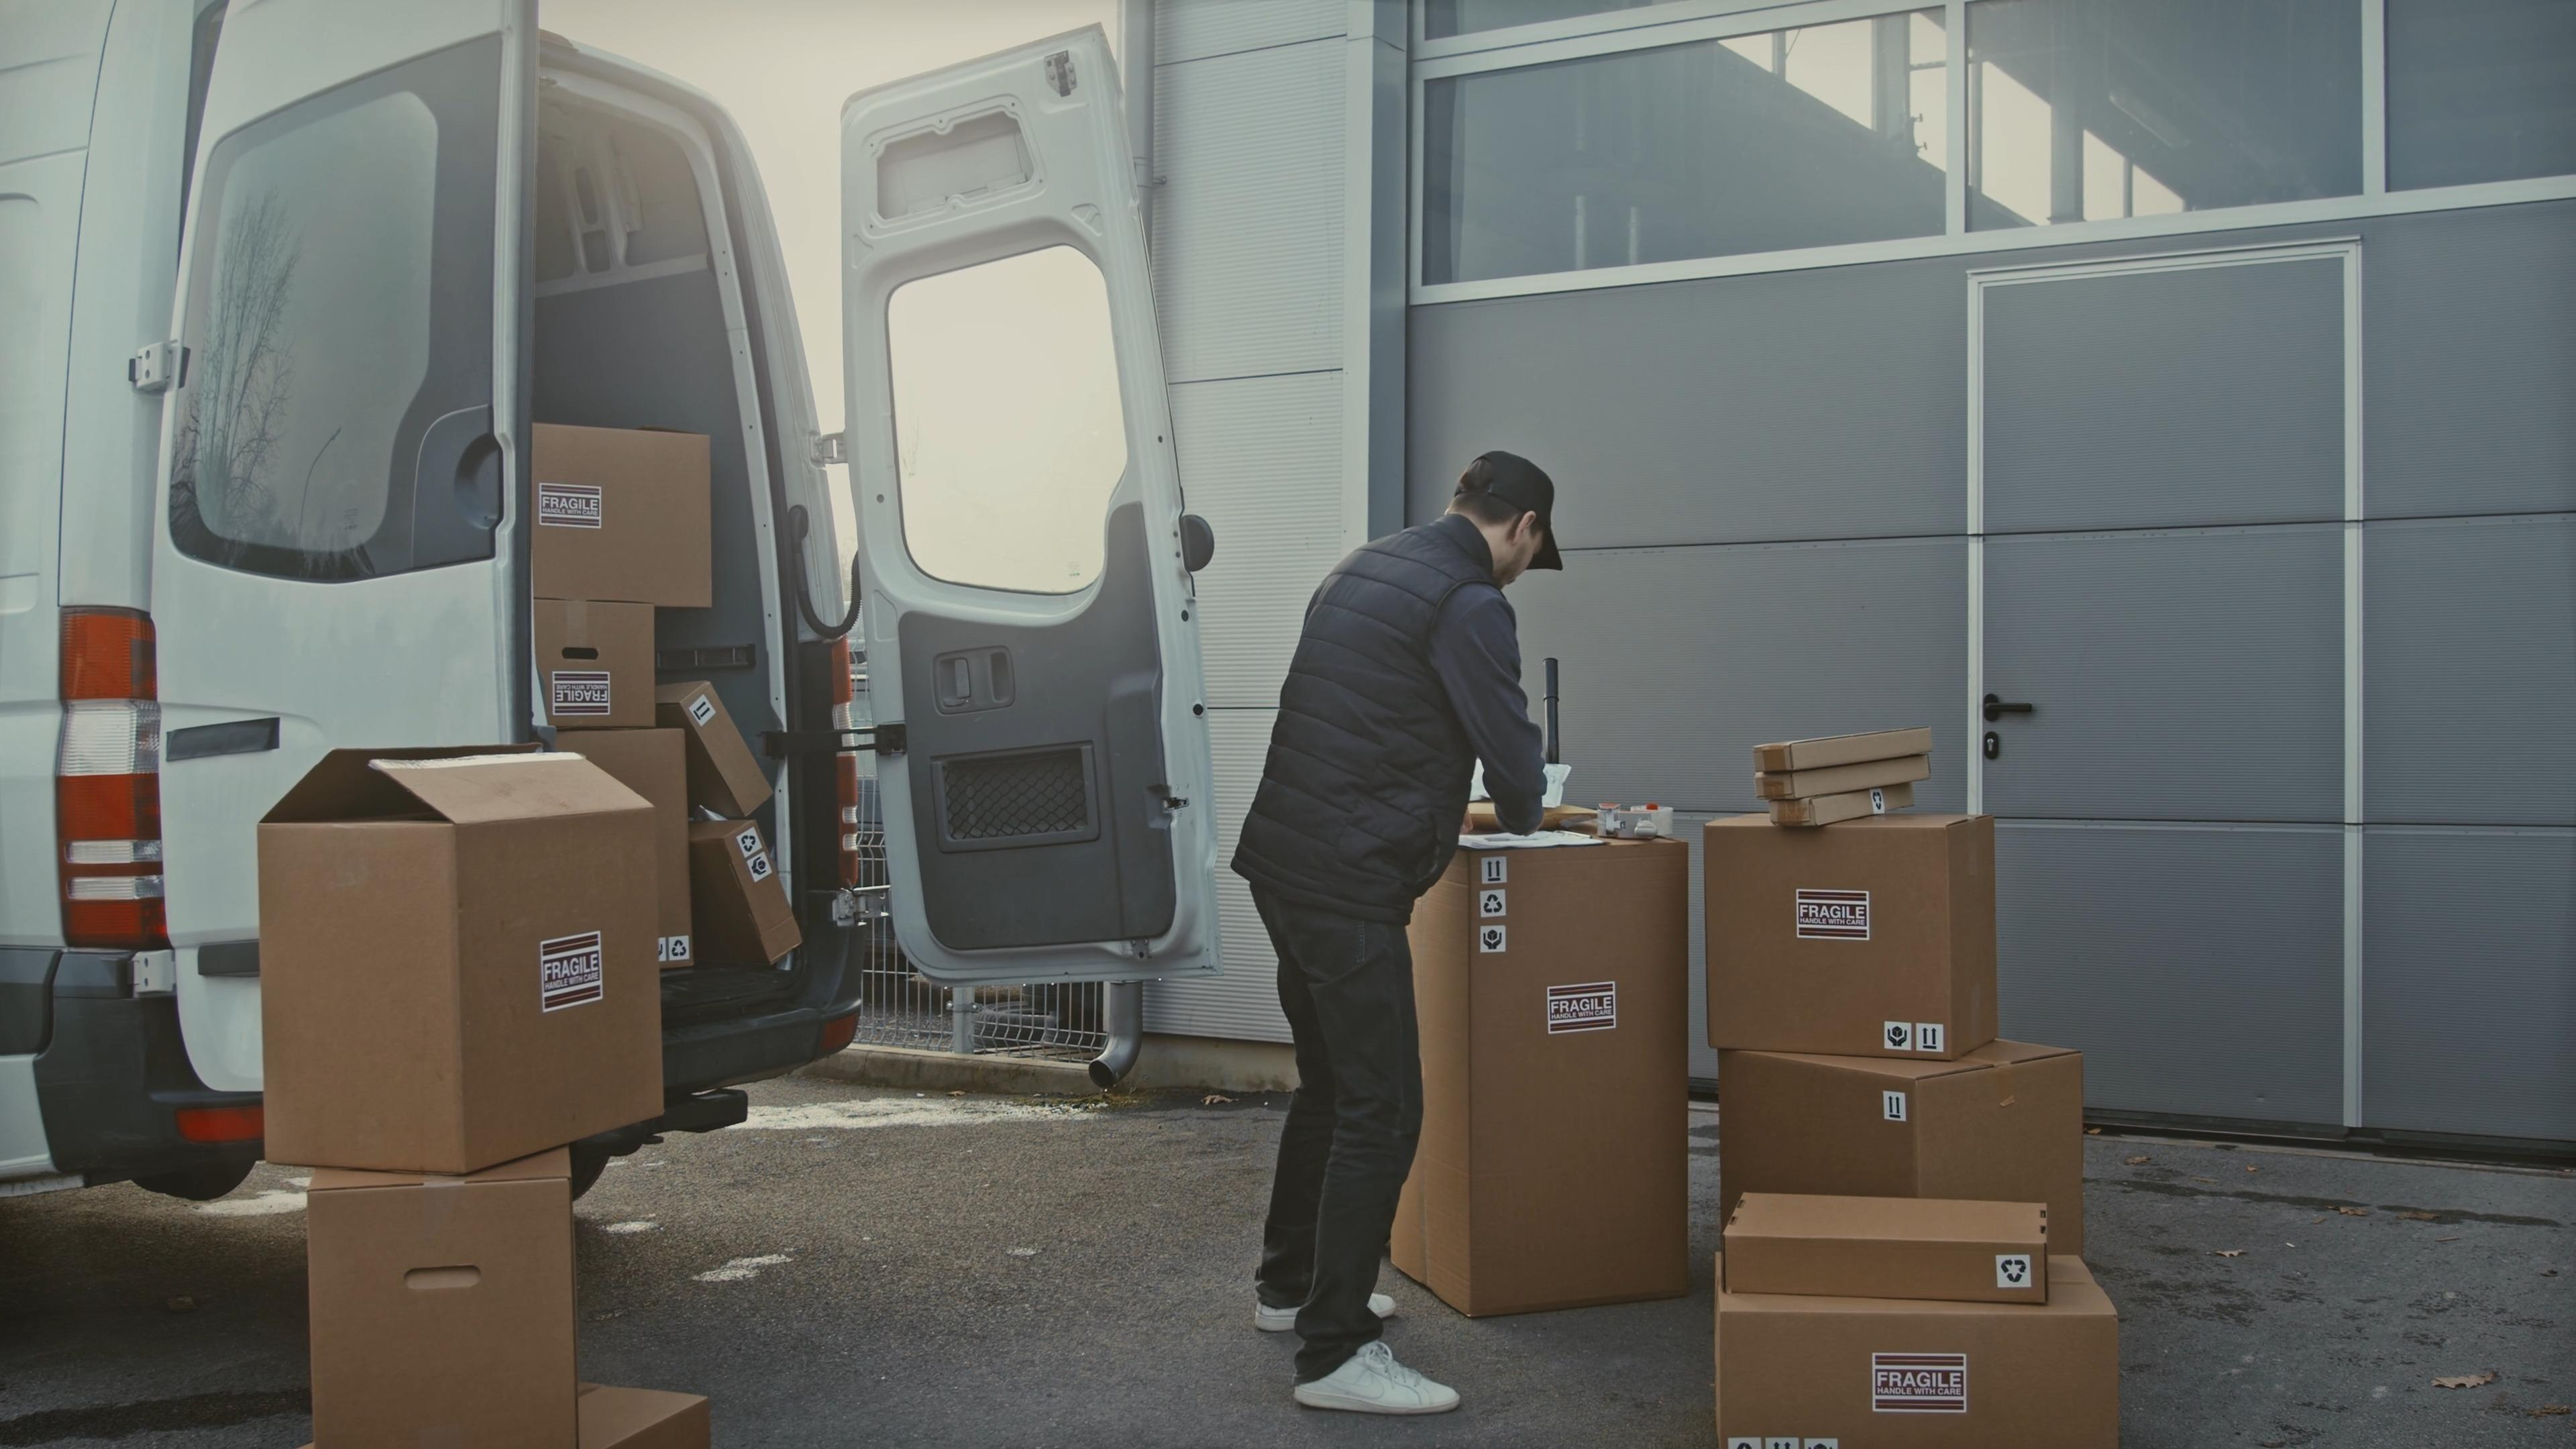-: (262, 745, 667, 1178), (1389, 816, 1695, 1323), (295, 1164, 579, 1449), (1688, 817, 1992, 1070), (1721, 1284, 2120, 1449), (1718, 1037, 2079, 1210), (1729, 1189, 2058, 1302), (518, 423, 697, 602), (524, 598, 662, 732)
